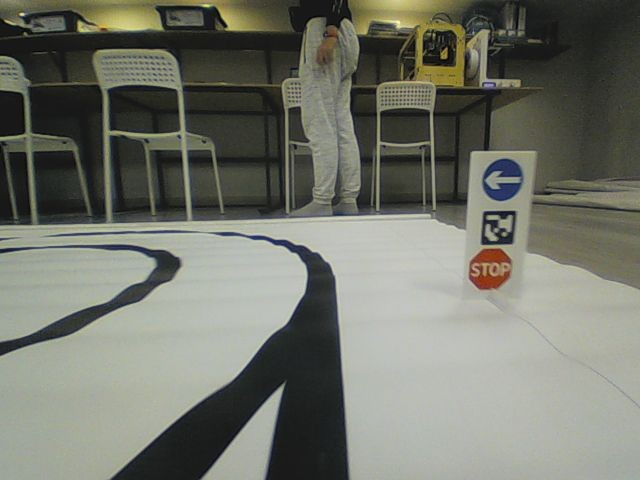Stop: (466, 246, 514, 291)
